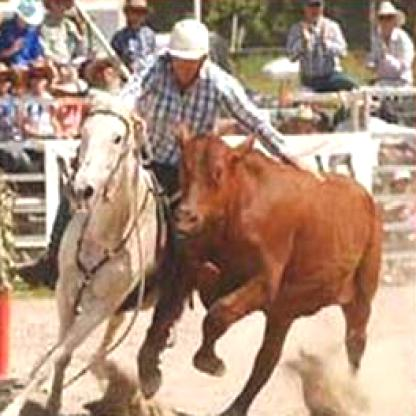cow: (135, 126, 382, 414)
horse: (1, 89, 175, 414)
